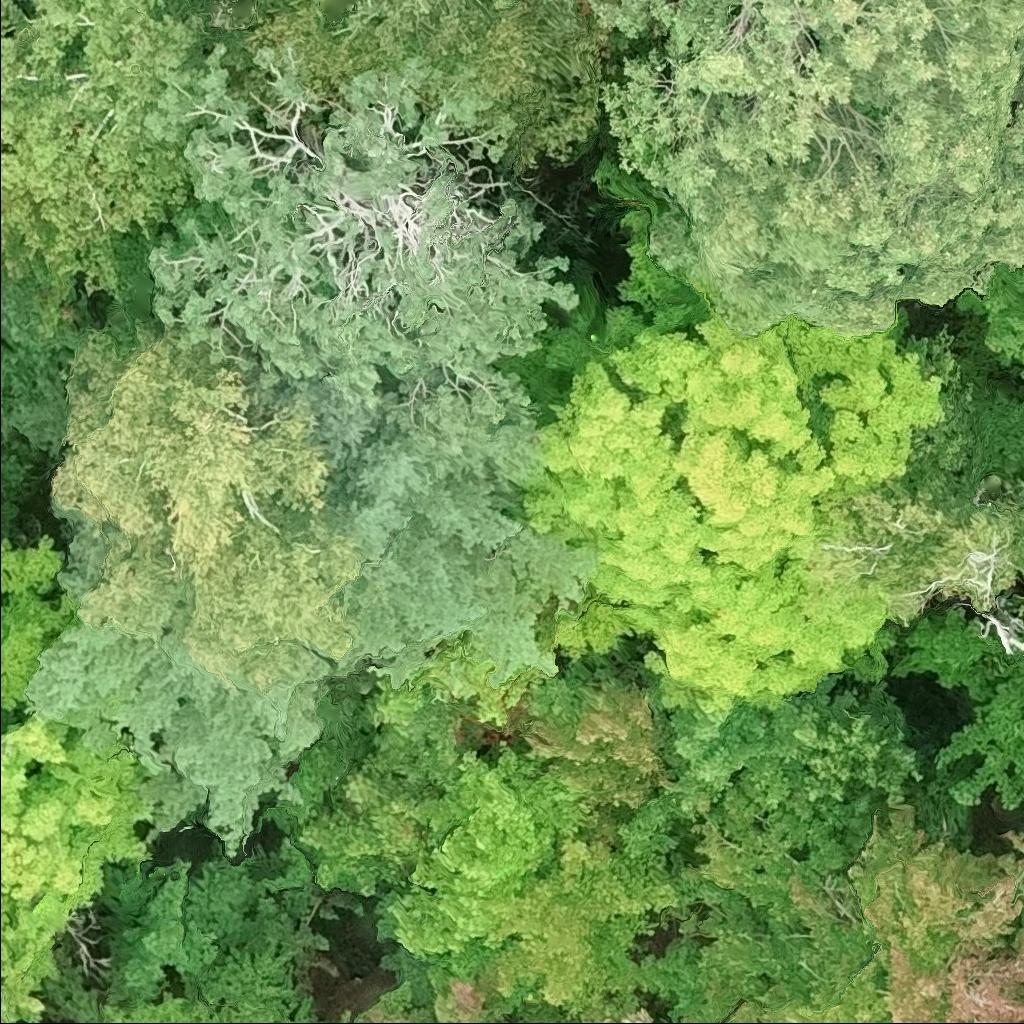crown: (520, 288, 948, 719), (139, 38, 581, 424), (569, 0, 1023, 337), (51, 321, 359, 688), (250, 365, 594, 690), (23, 514, 327, 854), (371, 733, 705, 1017), (241, 0, 609, 174), (0, 0, 213, 297), (629, 788, 890, 1023), (0, 712, 151, 985), (848, 801, 1023, 1023), (731, 672, 929, 846), (521, 640, 676, 819), (295, 752, 440, 903), (931, 651, 1023, 812), (0, 534, 75, 720), (664, 702, 777, 823), (954, 263, 1023, 397), (352, 973, 503, 1023), (104, 990, 227, 1023), (0, 953, 46, 1023), (1012, 493, 1023, 577), (477, 0, 526, 13), (410, 0, 447, 11), (1013, 595, 1023, 620), (291, 1021, 300, 1023)
